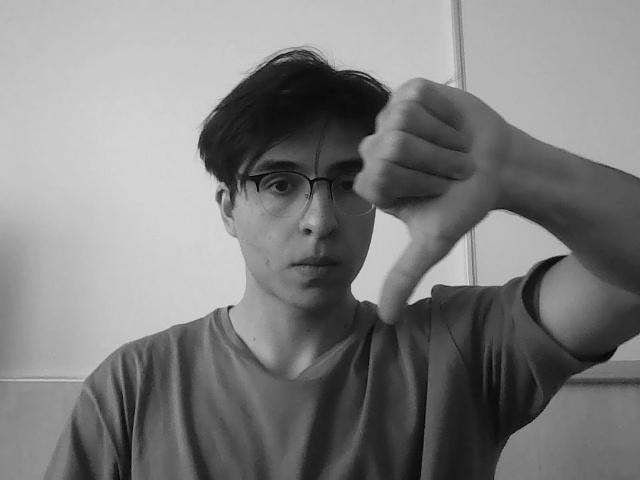bad: (389, 55, 501, 384)
